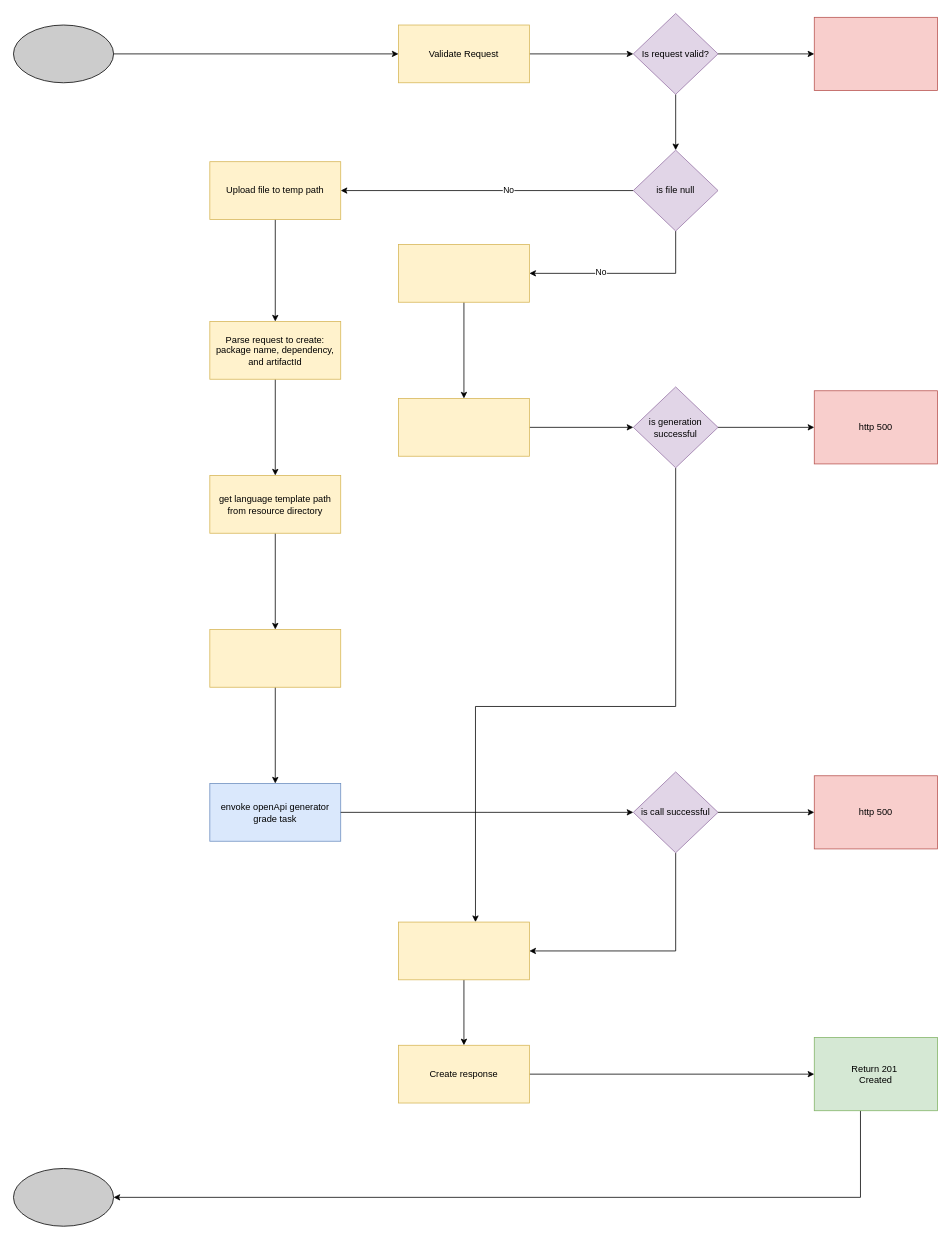
This 951x1240 diagram has some shape labels left out. Here are the shapes that lost their labels. From the top down, the centre of each, then its label:
At [63,53]: "Start".
At [875,53]: "Http 400".
At [463,273]: "Create module Directory".
At [463,427]: "Generate classes and other files using templates".
At [275,658]: "generate config.json for generator".
At [463,950]: "package generated module in zip file".
At [63,1197]: "End".
